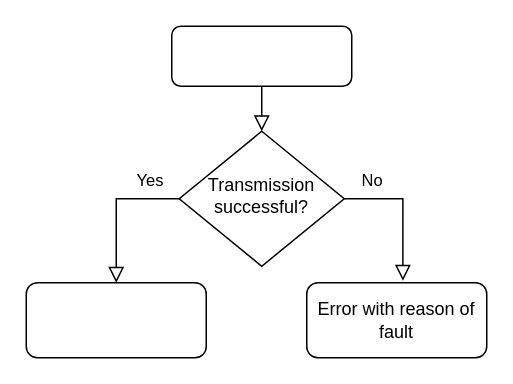
Image size: 513x384. Some labels were removed from this diagram. Here are the shapes that lost their labels. From the top down, the box of each, then its label:
(170, 25, 352, 86): Transmit frame
(25, 281, 206, 358): Confirmation of successful transmission
